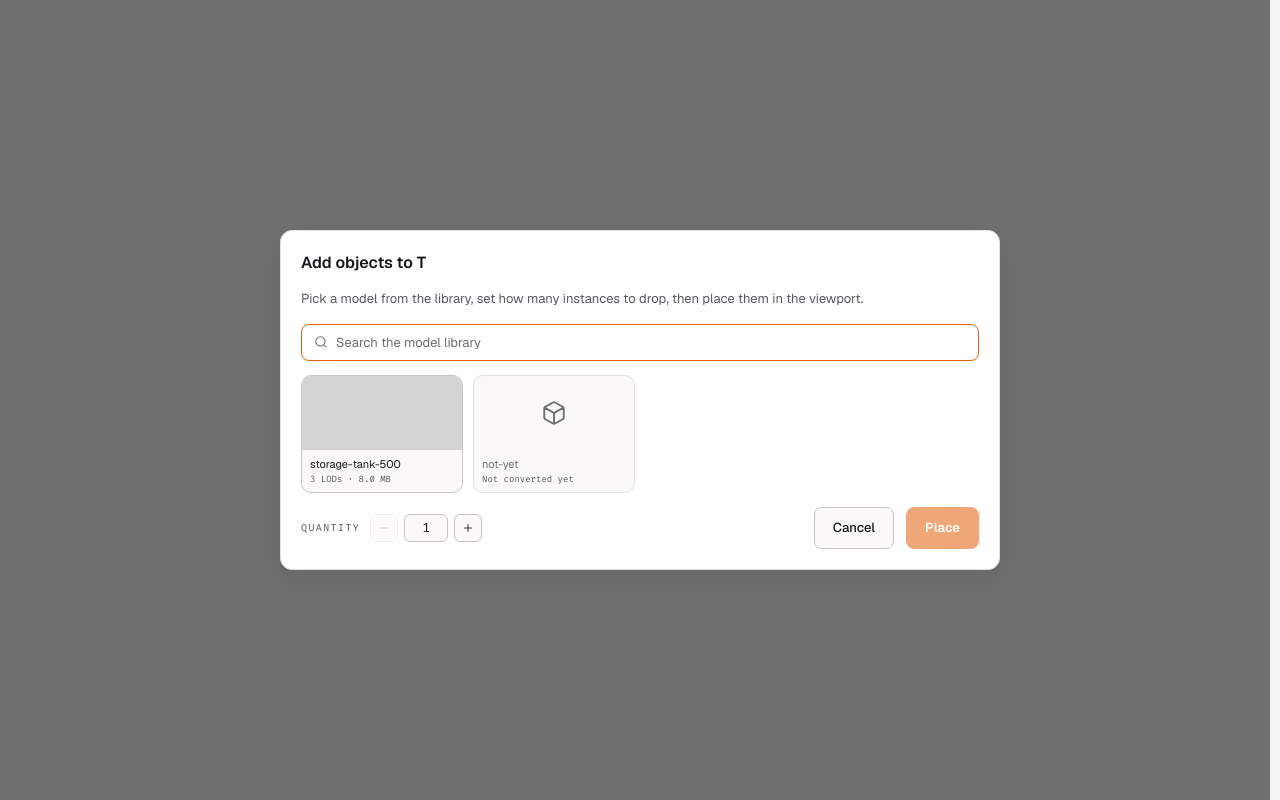
PlaceObjectsModal › filters the library by the search
The width and height of the screenshot is (1280, 800).
Step 1. Type "tank" into the search field labelled "Search the model library" → (651, 342), box [336,333,966,352]
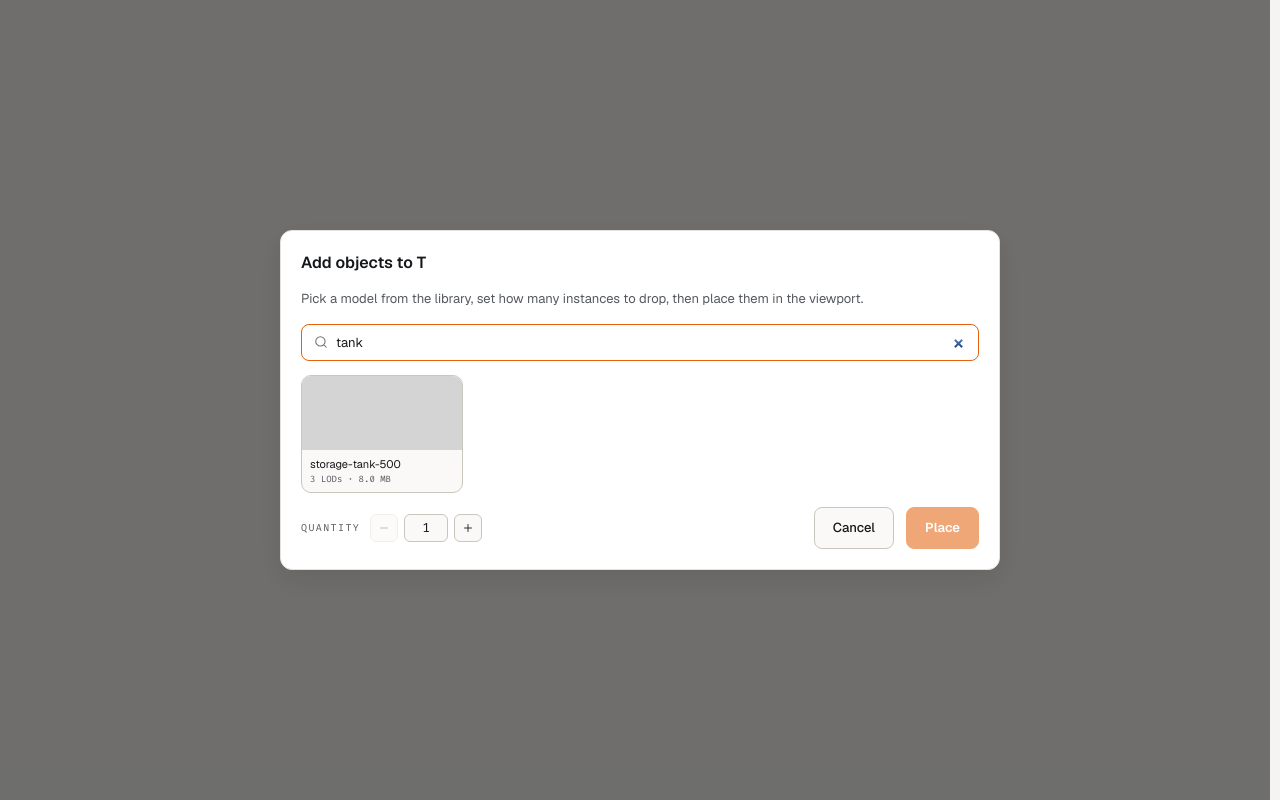
Result: the button "not-yet" is gone
